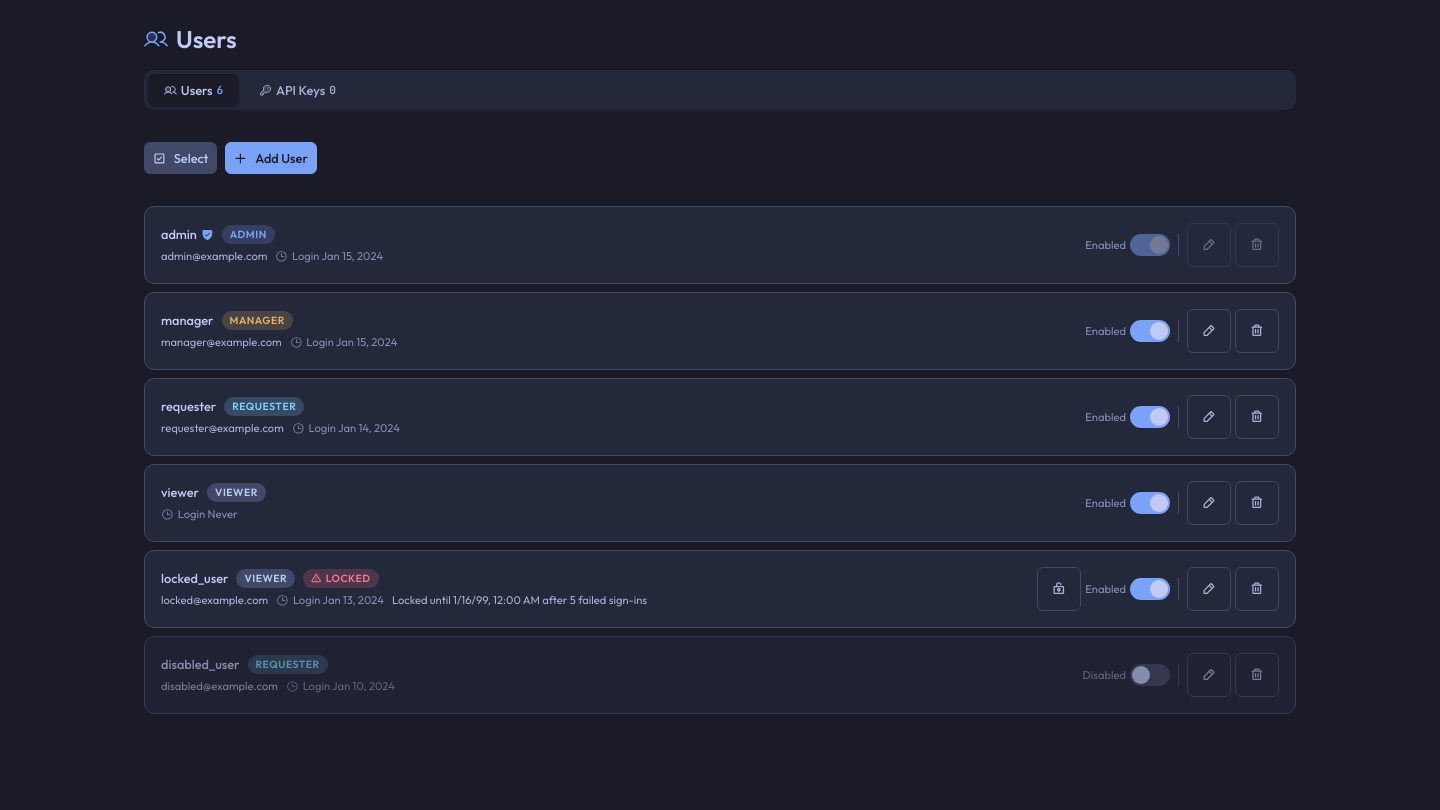
Scenario: UsersPage API Keys tab › switches to API Keys tab when clicked
Click the tab "API Keys 0" at (298, 90), box [243, 74, 352, 106]
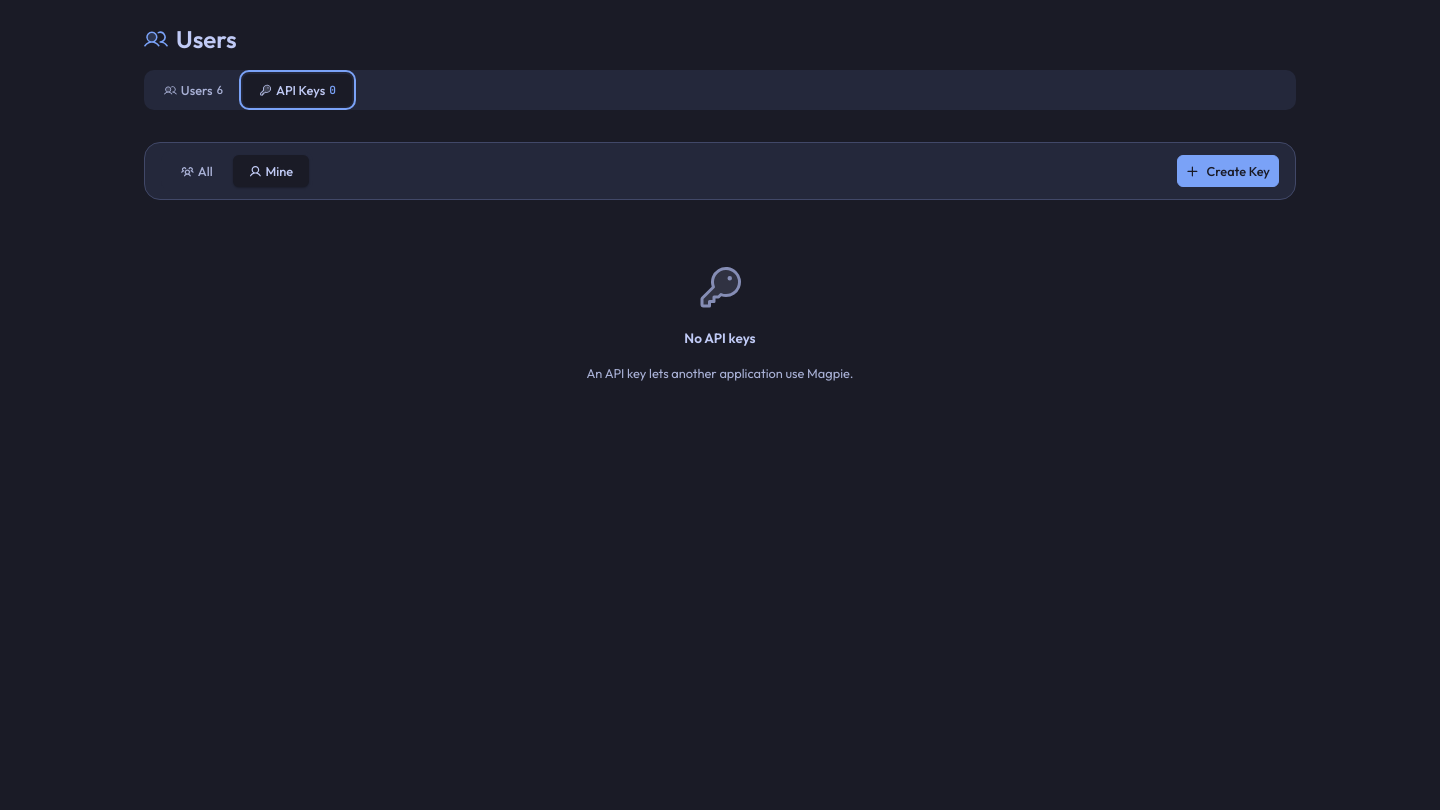
Check: the list "No API keys An API key lets another application use Magpie." is shown, box [586, 264, 854, 381]
